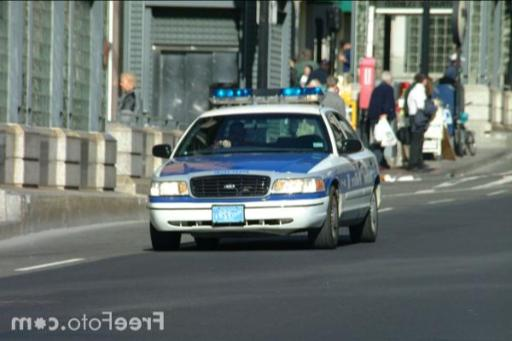Cheetah: (138, 73, 390, 272)
